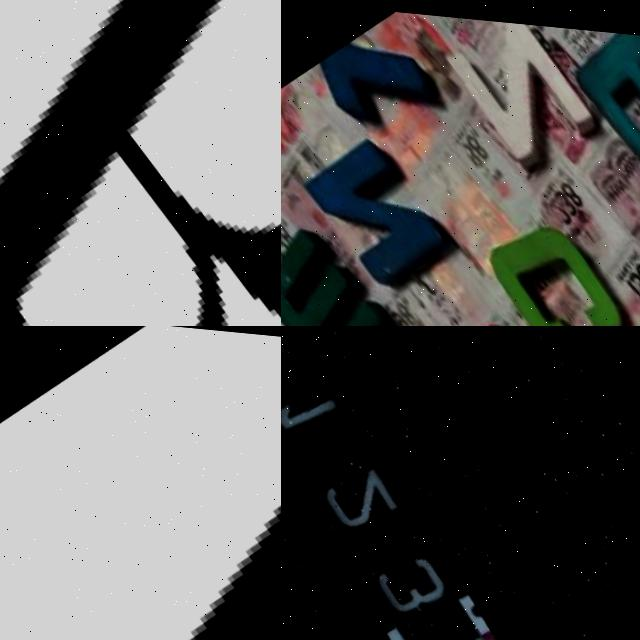1: (281, 358, 348, 450)
2: (302, 442, 404, 541)
3: (350, 527, 453, 627)
5: (409, 611, 505, 640)
C: (477, 206, 637, 326)
L: (0, 326, 281, 640)
M: (281, 219, 402, 326)
N: (296, 123, 457, 293)
P: (563, 20, 640, 182)
T: (305, 7, 444, 145)
Z: (436, 11, 597, 168)
